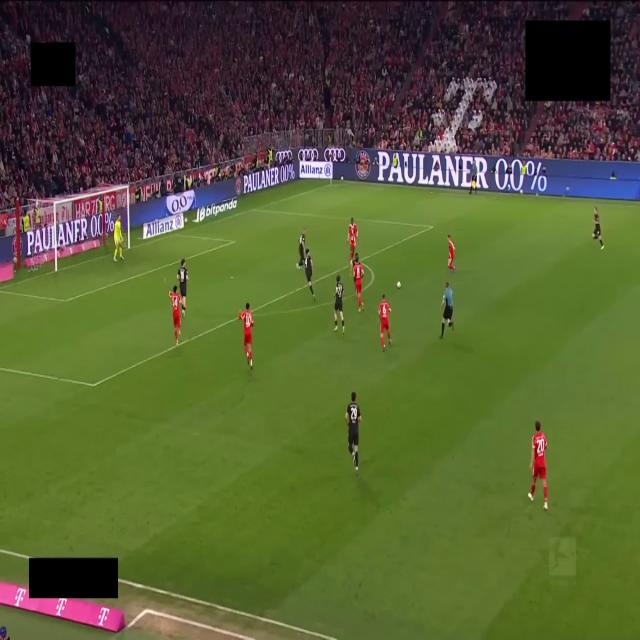ball: (397, 281, 401, 289)
player: (528, 421, 547, 510), (345, 392, 361, 473), (239, 303, 253, 369), (169, 286, 182, 344), (379, 294, 391, 351), (177, 259, 188, 316), (353, 254, 364, 311), (334, 275, 344, 334), (304, 248, 315, 301), (592, 208, 603, 249), (348, 217, 357, 263), (114, 215, 123, 261), (298, 229, 305, 268), (448, 235, 455, 271)
referee: (440, 282, 453, 338)
